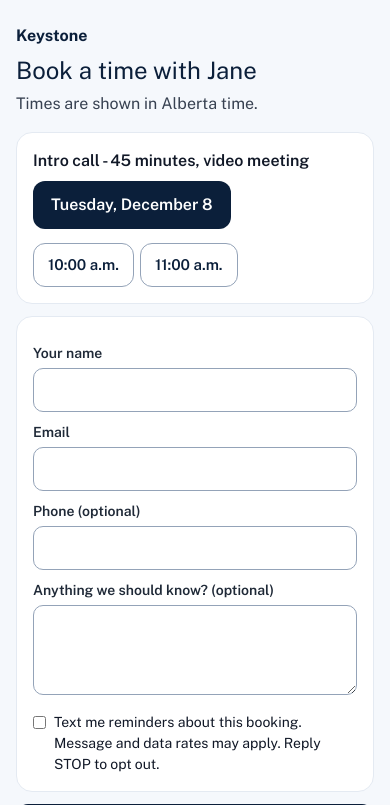
booking page › books a meeting type at a chosen time; text reminders only with the box ticked
Check: the heading "Book a time with Jane" is shown, box [16,56,257,84]
Step 1. Click the button "11:00 a.m." → (189, 265), box [140,243,238,287]
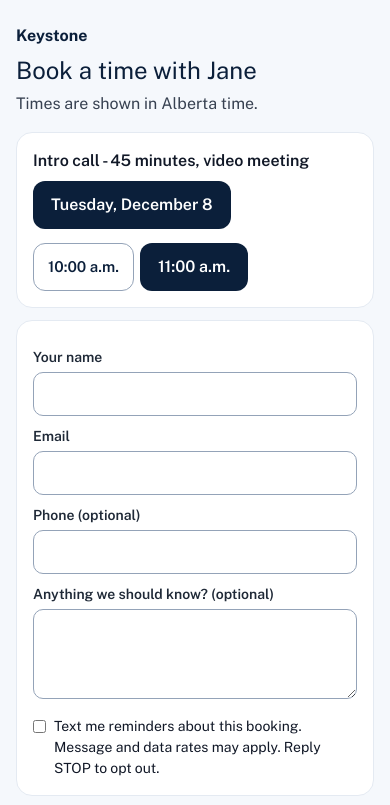
Step 2. Type "Pat Lee" into the field labelled "Your name" → (195, 394), box [33,372,357,416]
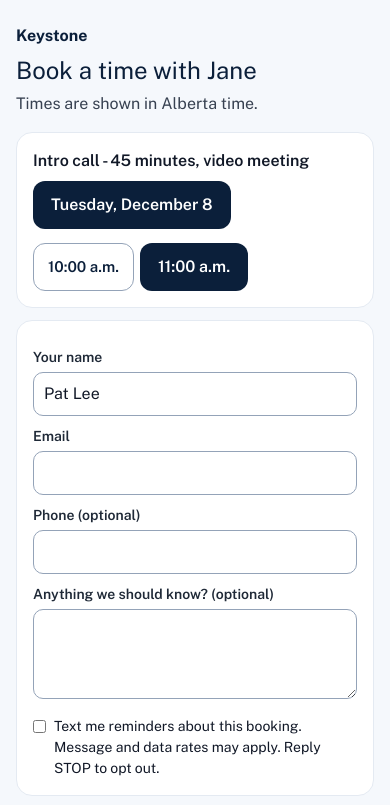
Step 3. Type "pat@x.test" into the field labelled "Email" → (195, 473), box [33,451,357,495]
(page scrolled)
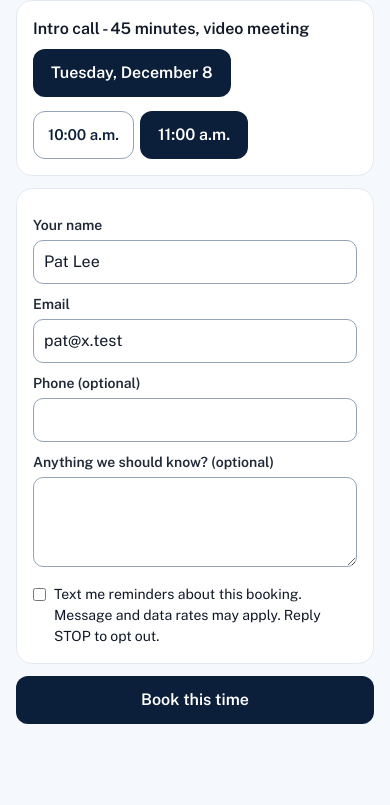
Step 4. Click the button "Book this time" → (195, 700), box [16,676,374,724]
(page scrolled)
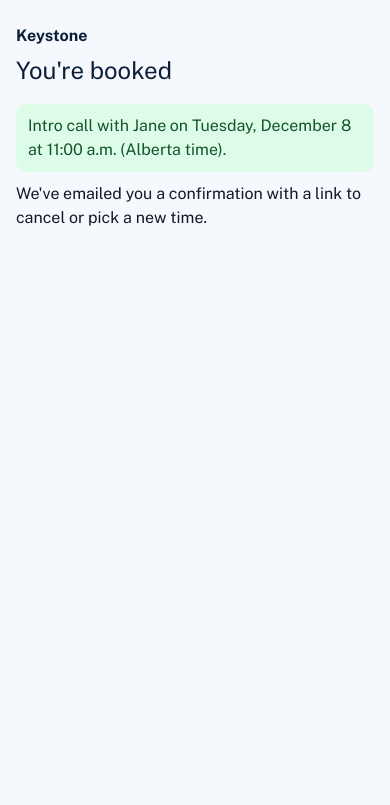
Check: the element with test id "booking-done" is shown, box [16,26,374,227]
